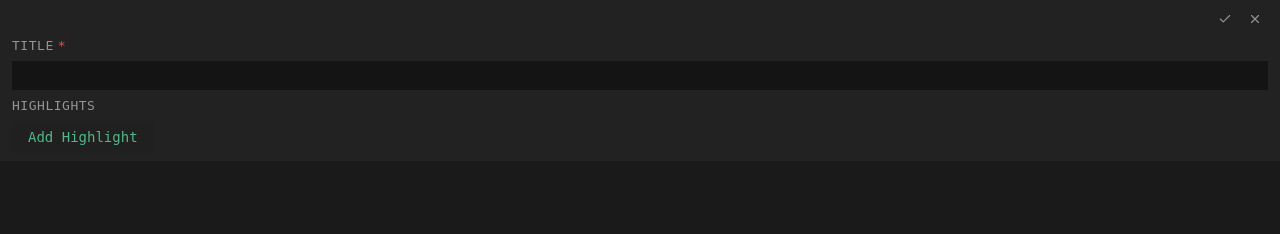
EntryForm › removes highlight from list when remove button clicked
Click the button "Add Highlight".
click(83, 137)  # box [12,121,154,153]
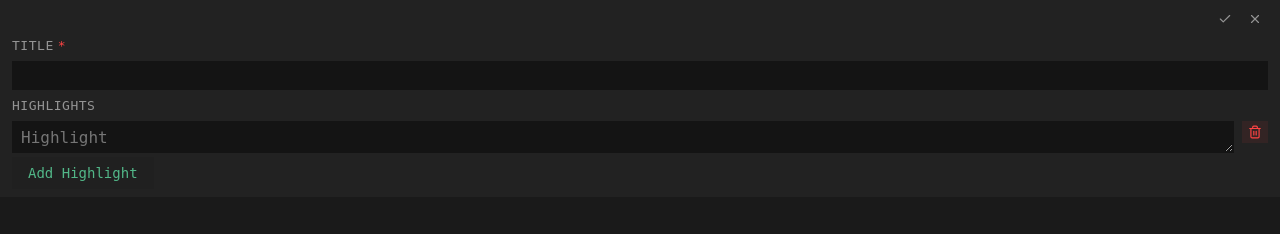
Click the button "Add Highlight".
click(83, 173)  # box [12,157,154,189]
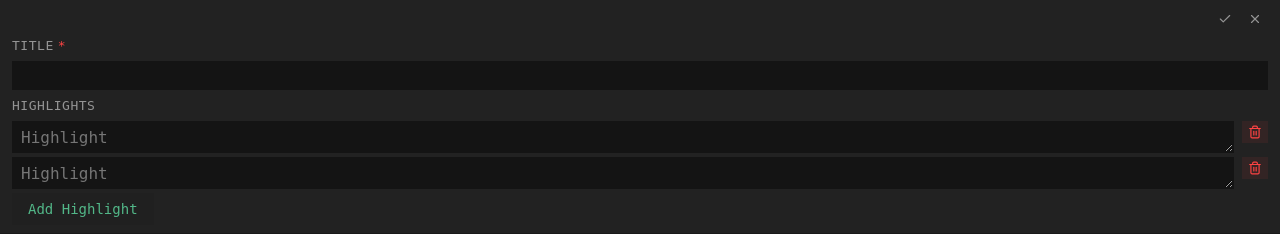
Result: the number of text boxes with placeholder "Highlight" is 2 at [12,121,1234,153]; [12,157,1234,189]
Click the 1st button named "remove".
click(1255, 132)  # box [1242,121,1268,143]
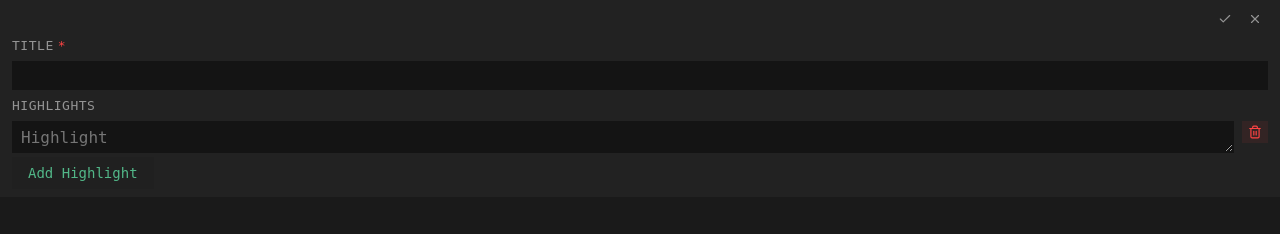
Result: the number of text boxes with placeholder "Highlight" is 1 at [12,121,1234,153]
